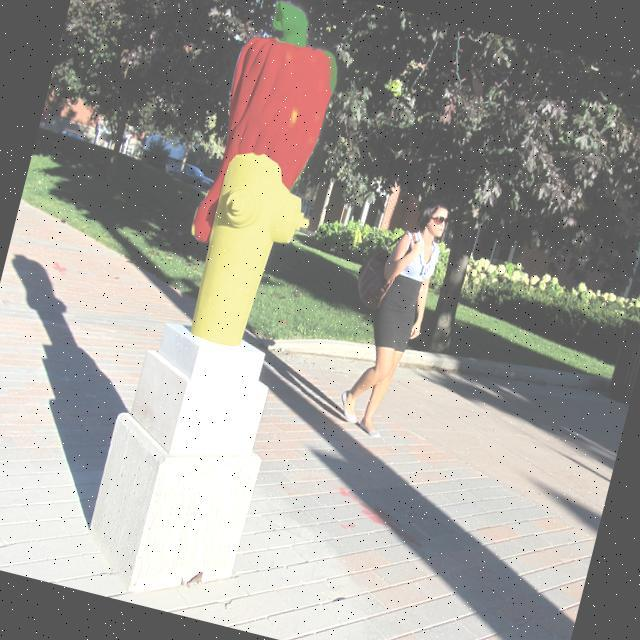fire_hydrant: (184, 144, 321, 356)
